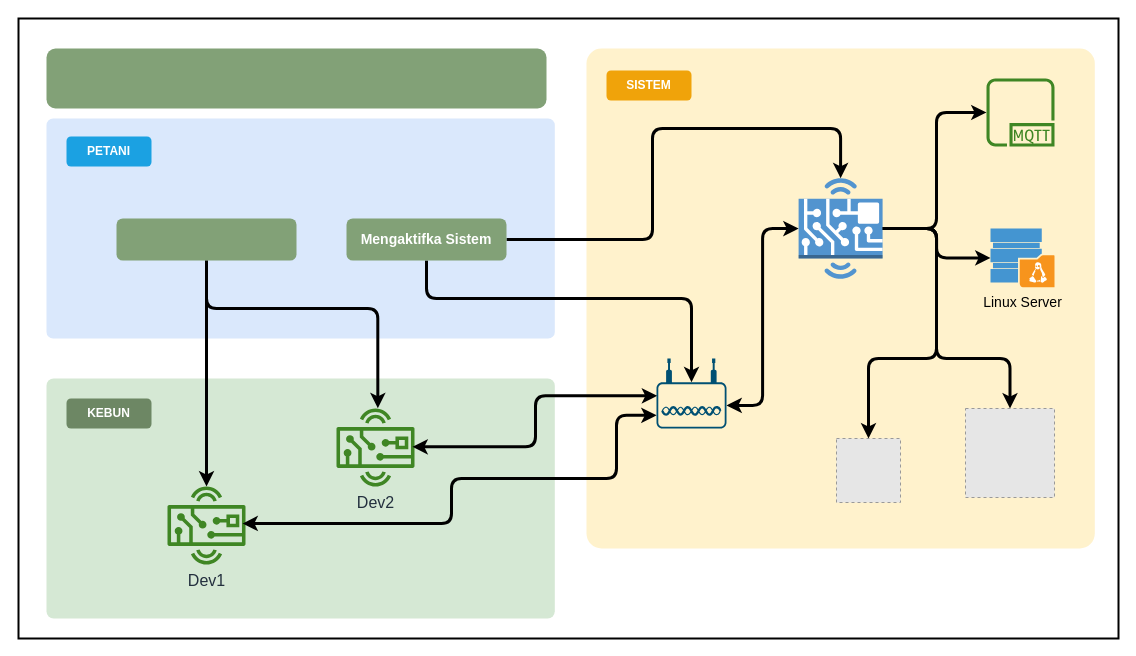
Image size: 1136x656. Some labels were removed from this diagram. Grey dashed boxes stand in for pictures. Each missing label, with the centre of its shape:
"Acess Point" belongs at point (691, 393).
"Flow Menyiapkan Sistem" belongs at point (296, 78).
"Mengaktifkan Device" belongs at point (206, 239).
"SBC" belongs at point (840, 228).
